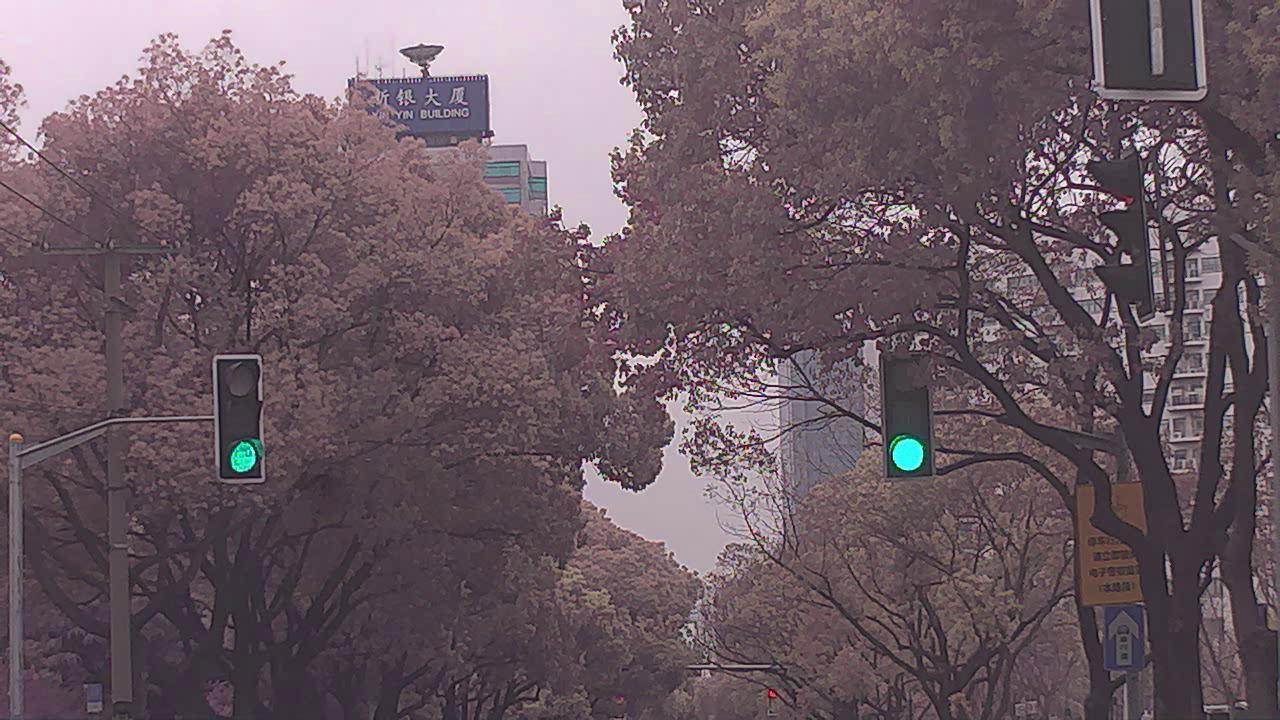traffic_light: (882, 351, 933, 475), (217, 354, 266, 483)
